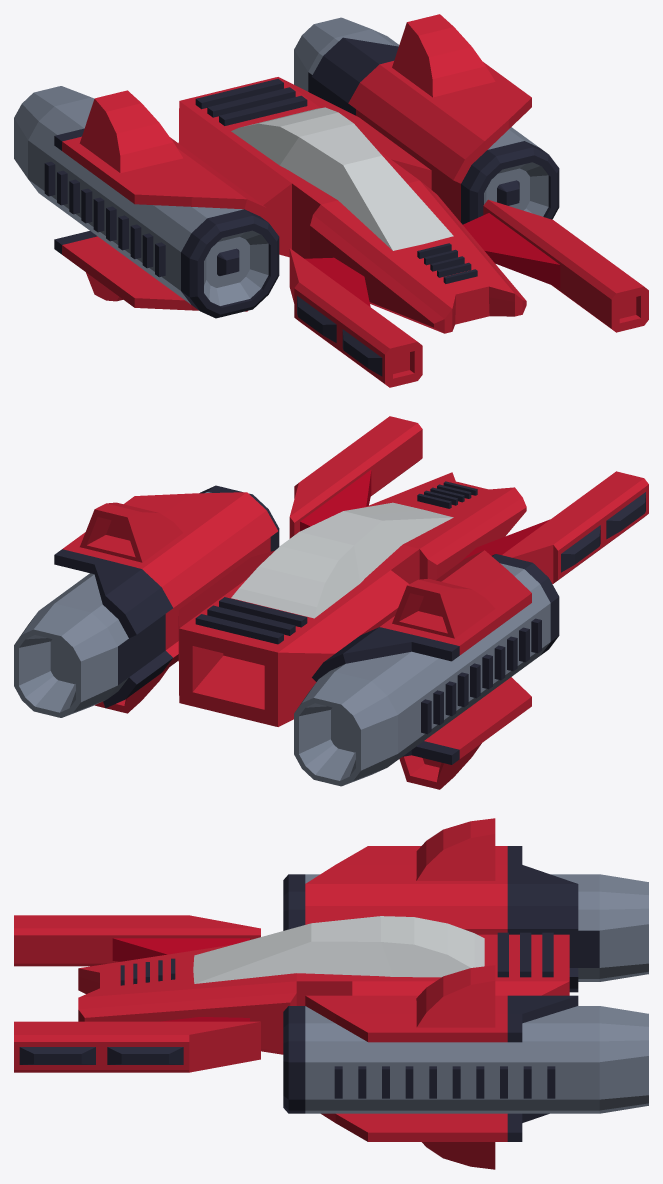
Rendered from Character_Ship_01.fbx.
3 views of the same model, one above another, from view 1: azimuth 30°, elevation 25°; view 2: azimuth 150°, elevation 25°; view 3: azimuth 270°, elevation 25° (orthographic). The views are drawn at different scales.
Parts seen in each view (by area): view 1: Enemie Ship Figther 01; view 2: Enemie Ship Figther 01; view 3: Enemie Ship Figther 01.
Boxes of the visible parts, bbox=[...] form: Enemie Ship Figther 01: bbox=[14, 14, 648, 387]; Enemie Ship Figther 01: bbox=[14, 416, 648, 789]; Enemie Ship Figther 01: bbox=[14, 818, 648, 1169].
Size of the model in its own units: 350 by 165 by 503.
